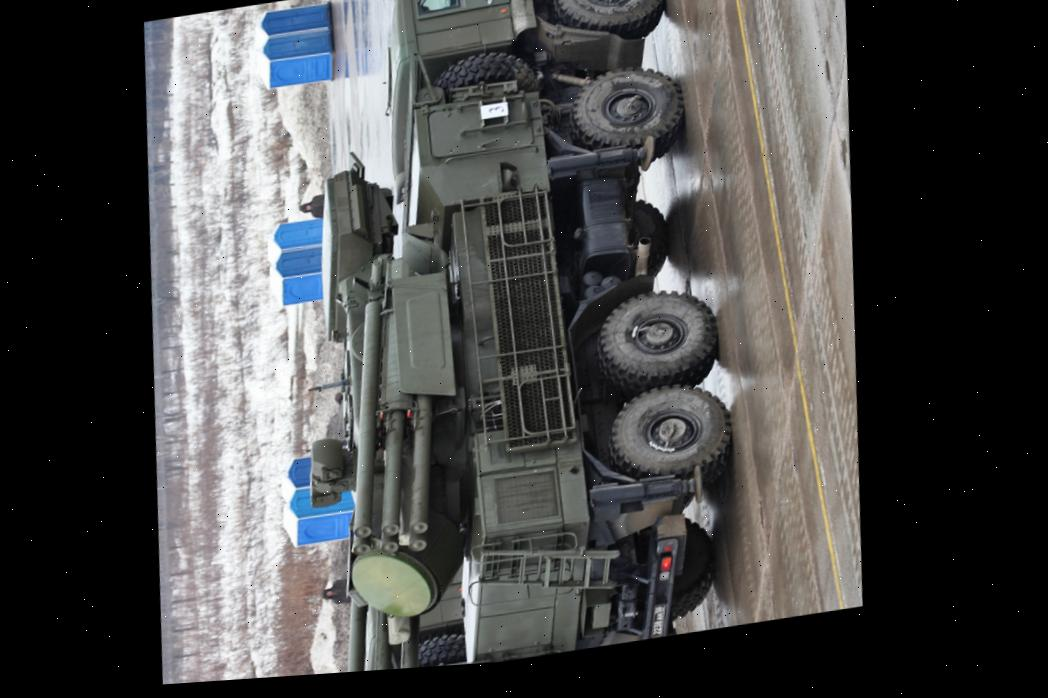truck: (309, 0, 773, 675)
